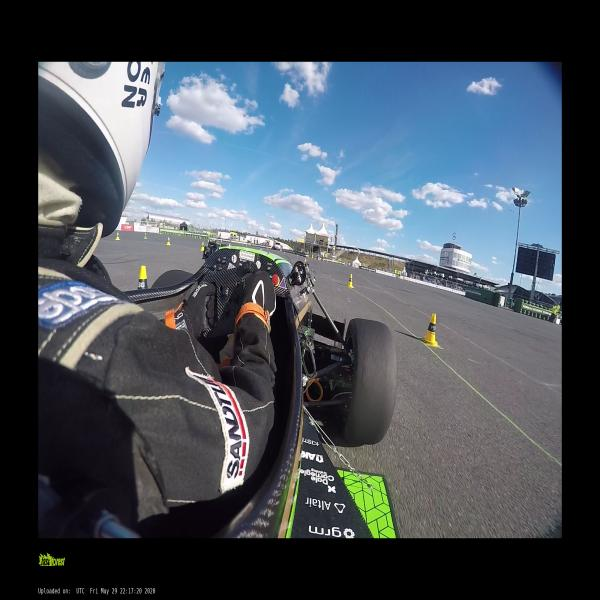yellow_cone: (422, 313, 440, 347), (138, 266, 148, 290), (347, 274, 353, 288), (166, 238, 171, 246), (116, 232, 120, 240), (201, 242, 204, 250), (143, 233, 147, 238)
